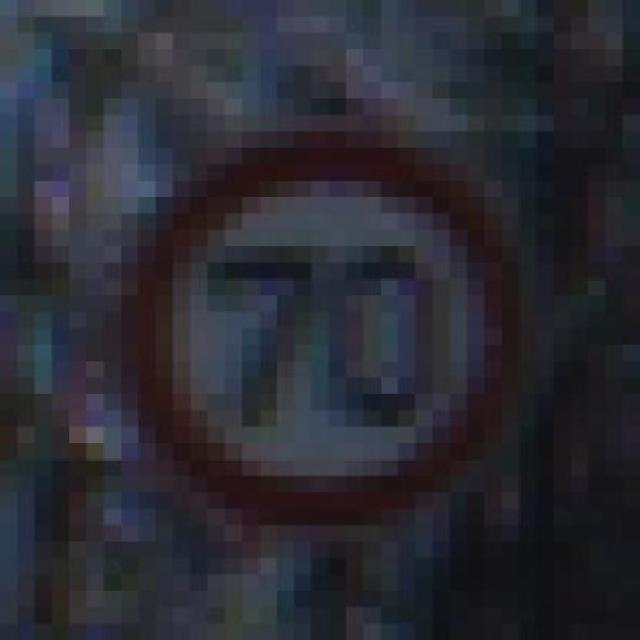forb_speed_over_70: (137, 146, 523, 512)
